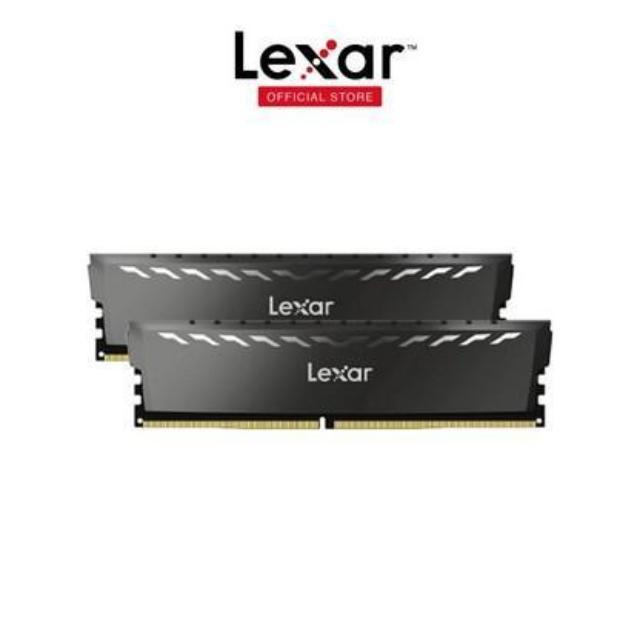RAM: (84, 247, 556, 436)
